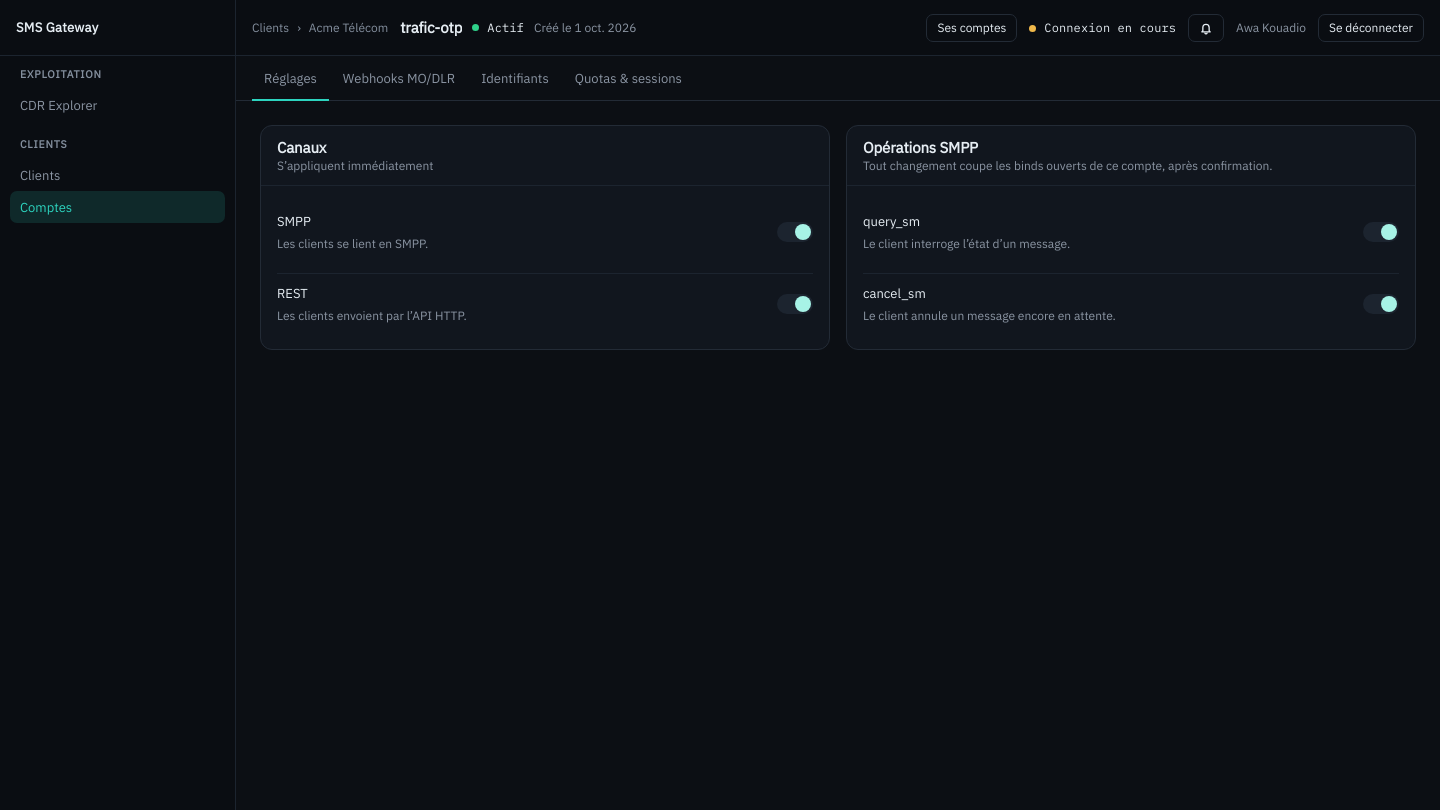
Test case: the credentials of an SMPP account › says what to do when the API key already exists
This screenshot has width=1440, height=810.
Click the tab "Identifiants" at (515, 78), box [469, 56, 561, 100]
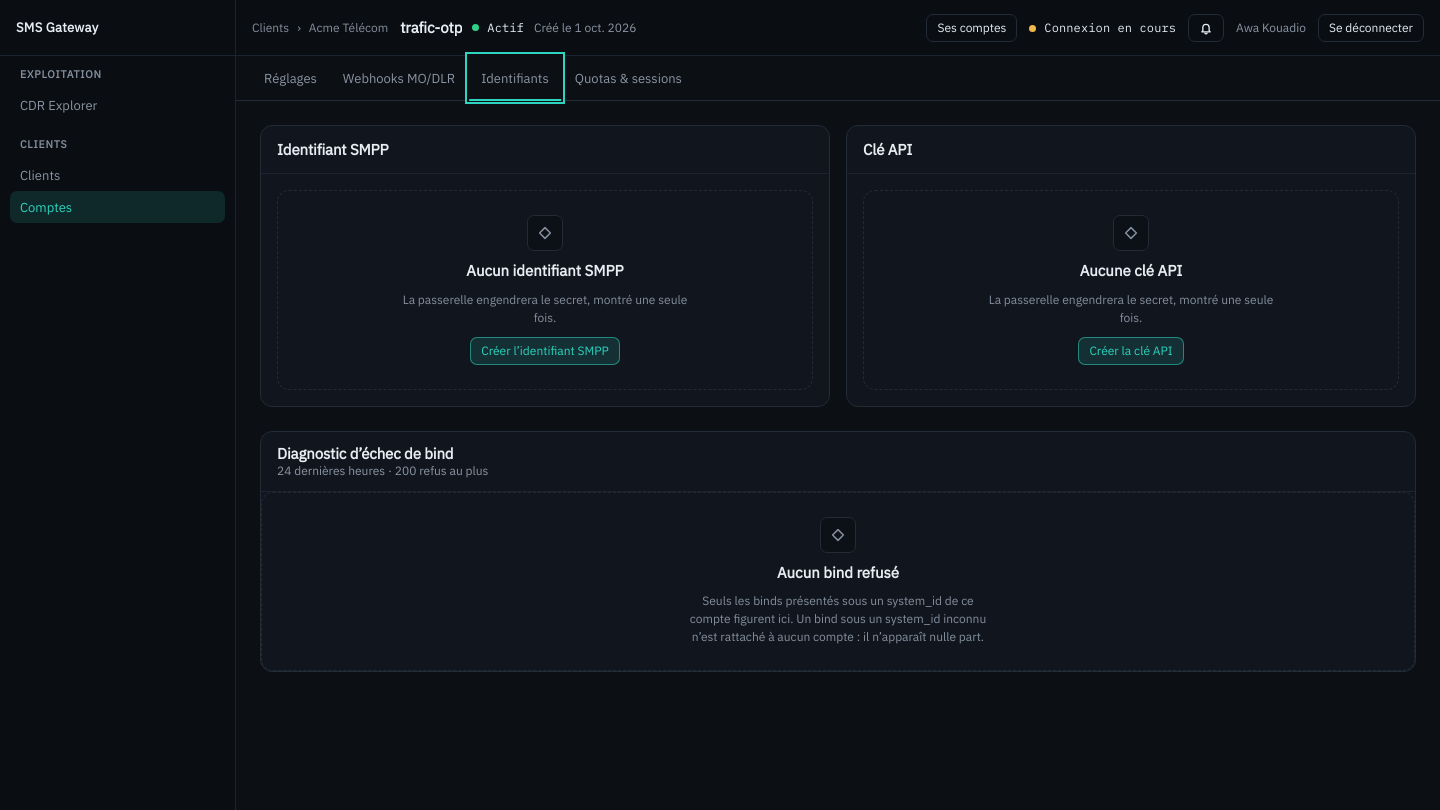
Click the button "Créer la clé API" at (1131, 350), box [1078, 336, 1184, 364]
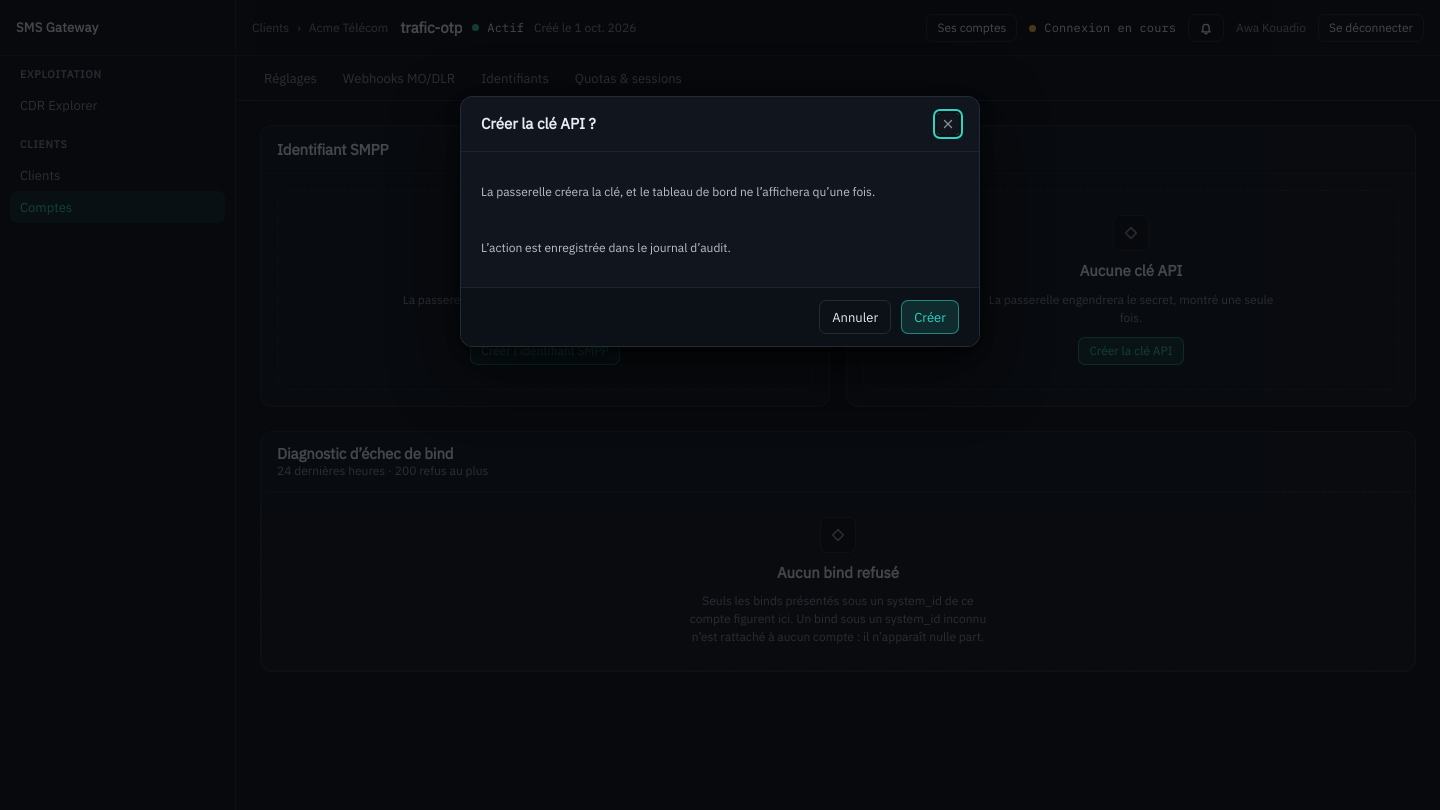
Click the button "Créer" at (930, 317), box [901, 300, 959, 334]
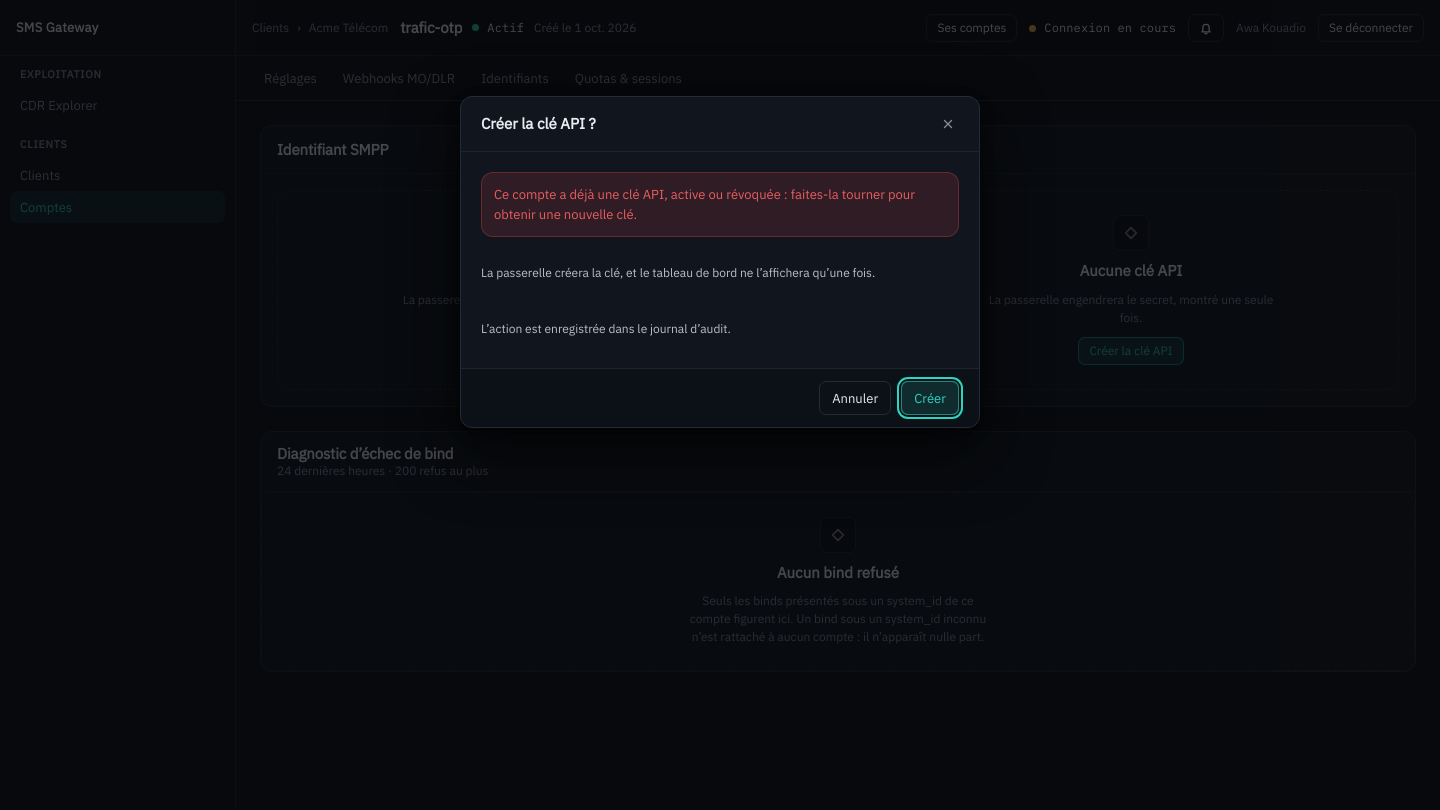
Now the message shows "faites-la tourner", box [494, 186, 915, 222]
